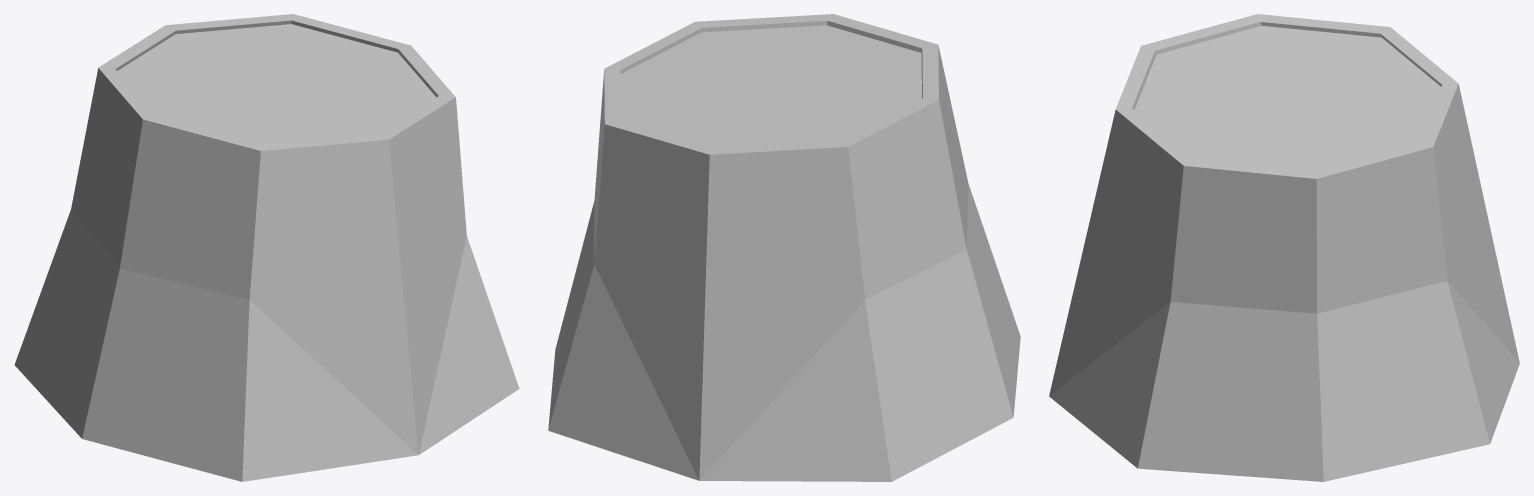
The model's file is Low_Poly_TreeStump2.fbx.
The picture shows the model from 3 angles, left to right: view 1: azimuth 30°, elevation 25°; view 2: azimuth 150°, elevation 25°; view 3: azimuth 270°, elevation 25°; orthographic projection. The views are drawn at different scales.
Parts seen in each view (by area): view 1: TreeStump 2; view 2: TreeStump 2; view 3: TreeStump 2.
Boxes of the visible parts, x1,y1,x2,y2 form: TreeStump 2: [14, 14, 519, 481]; TreeStump 2: [548, 14, 1020, 481]; TreeStump 2: [1049, 14, 1519, 481].
Size of the model in its own units: 112 by 79.45 by 112.
